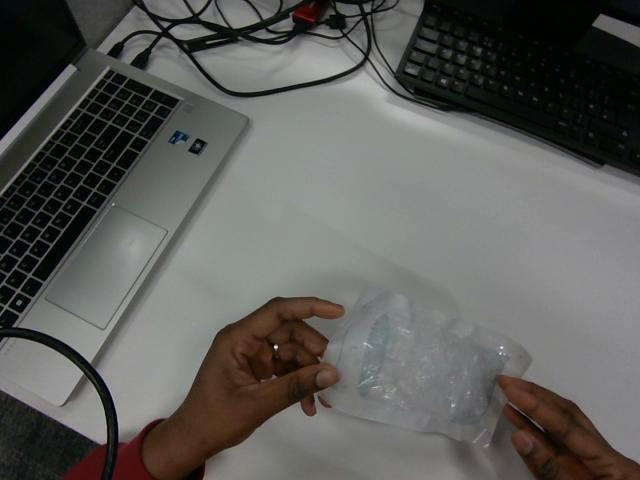gallipot: (320, 287, 531, 444)
